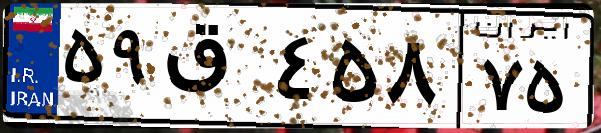4: (270, 28, 330, 110)
5: (330, 28, 385, 110), (57, 26, 110, 100), (525, 38, 570, 115)
7: (475, 38, 525, 113)
8: (385, 28, 445, 110)
9: (110, 28, 158, 98)
ق: (158, 20, 270, 120)
